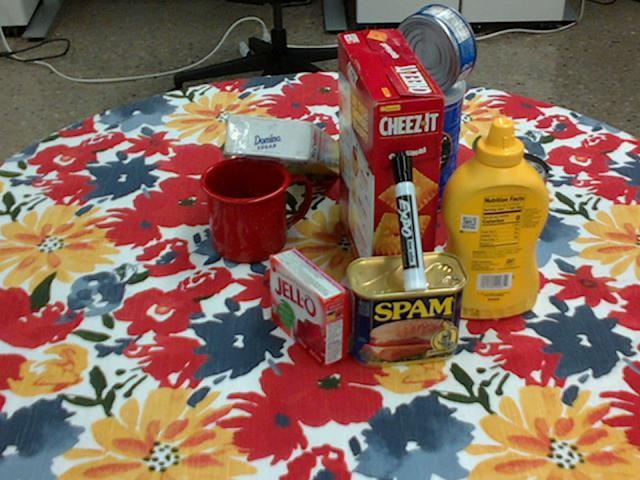cracker_box: (337, 31, 443, 303)
gelatin_box: (270, 246, 349, 365)
large_marker: (389, 150, 428, 291)
master_chef_can: (367, 64, 464, 218)
mug: (201, 156, 313, 262)
mustard_bottle: (435, 118, 549, 319)
potted_meat_can: (348, 251, 469, 367)
sugar_box: (226, 115, 343, 177)
tomato_soup_can: (472, 151, 549, 268)
tuna_fish_can: (391, 5, 475, 92)
